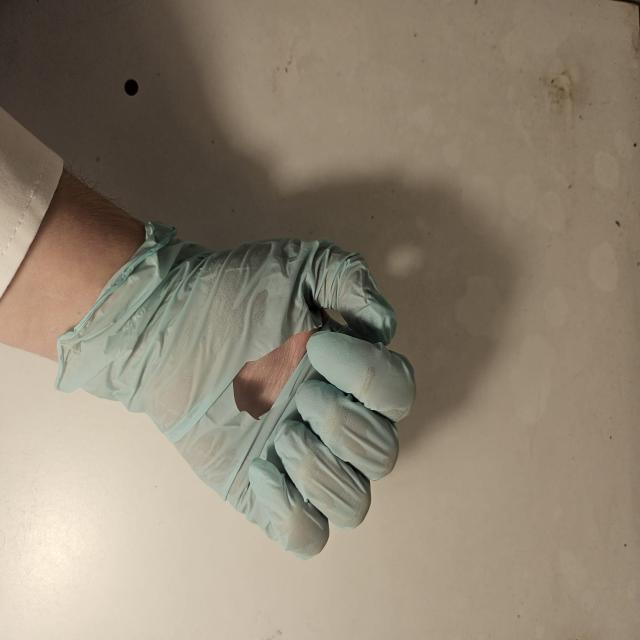gloves_damaged: (52, 214, 420, 565)
